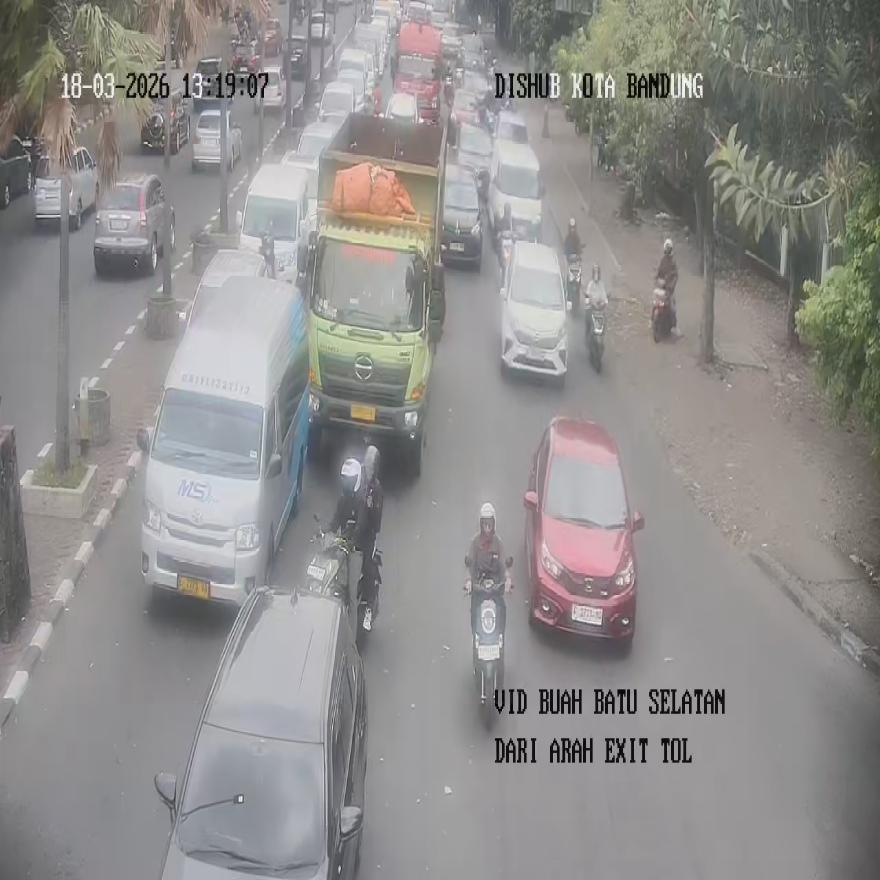Bis mini: (132, 272, 306, 602)
Mobil: (153, 584, 367, 878), (523, 415, 644, 645), (498, 240, 570, 378), (92, 171, 174, 273), (183, 248, 267, 334), (33, 144, 98, 229)
Motor: (465, 556, 511, 722), (305, 514, 352, 604), (357, 540, 381, 638), (650, 281, 676, 342), (584, 296, 605, 371), (566, 255, 582, 316), (498, 227, 514, 288)
Truk berat: (304, 108, 445, 468)
